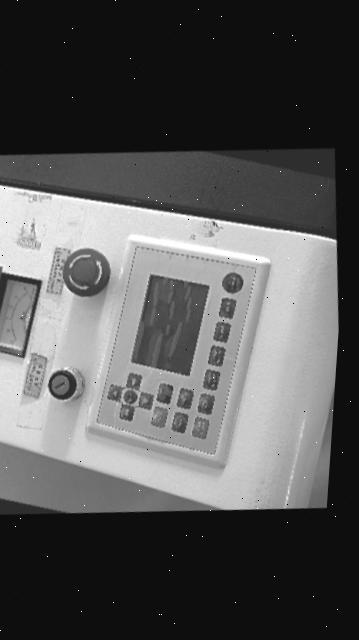Amp_Meter: (0, 281, 36, 355)
Display: (130, 275, 208, 376)
Down_button: (137, 393, 153, 410)
Emergency_Stop: (62, 249, 109, 297)
Enter_button: (151, 407, 167, 428)
Esc_button: (156, 384, 172, 404)
File_button: (197, 394, 214, 415)
Frame_button: (171, 412, 188, 434)
Left_button: (125, 374, 141, 390)
Max-Power_button: (202, 370, 219, 391)
Min-Power_button: (207, 346, 224, 367)
Origin_button: (176, 389, 193, 410)
Power_switch: (47, 368, 82, 402)
Pulse_button: (218, 298, 235, 318)
Reset_button: (222, 273, 242, 293)
Right_button: (118, 405, 134, 422)
Speed_button: (213, 322, 230, 343)
Start-Pause_button: (192, 418, 208, 439)
Up_button: (107, 385, 122, 402)
Z_U_button: (123, 390, 136, 405)
